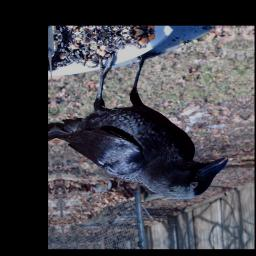Crow: (50, 45, 232, 207)
